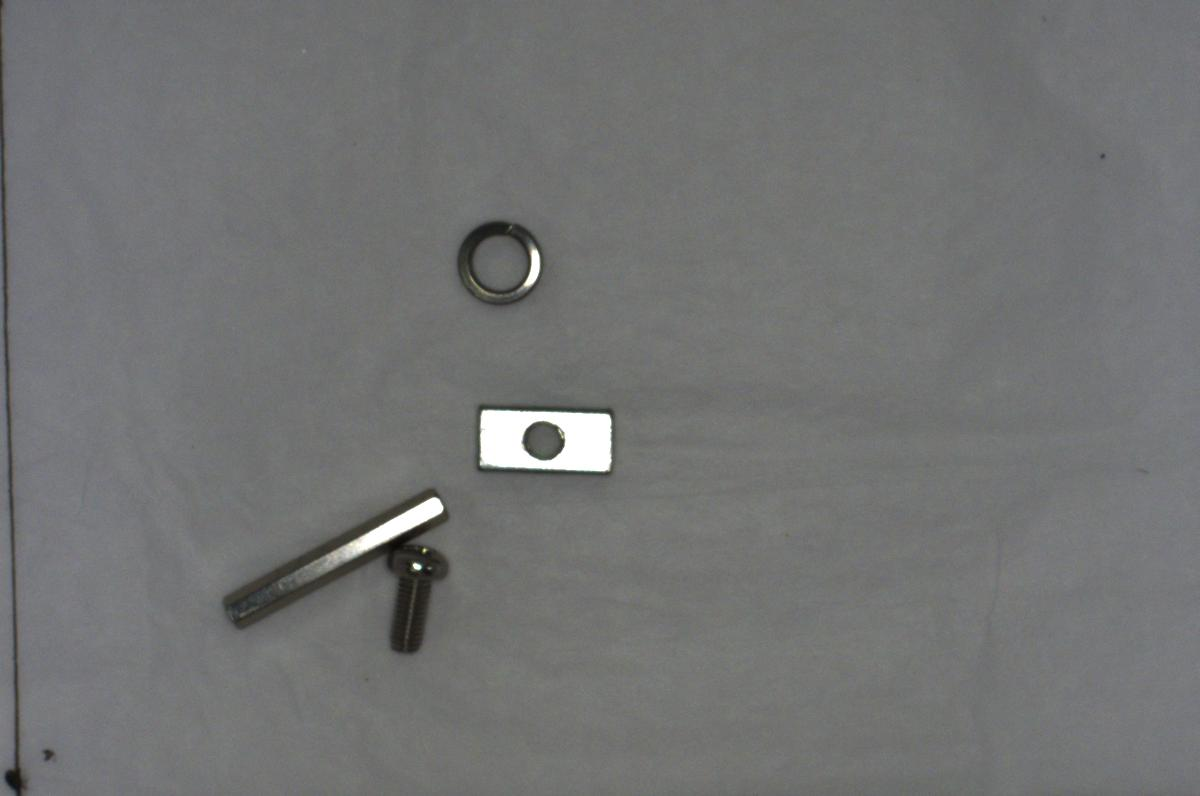Double hexagonal column: (225, 492, 444, 619)
Rectangular nut: (477, 396, 619, 481)
Round head screw: (372, 543, 453, 656)
Spring washer: (448, 210, 548, 309)
